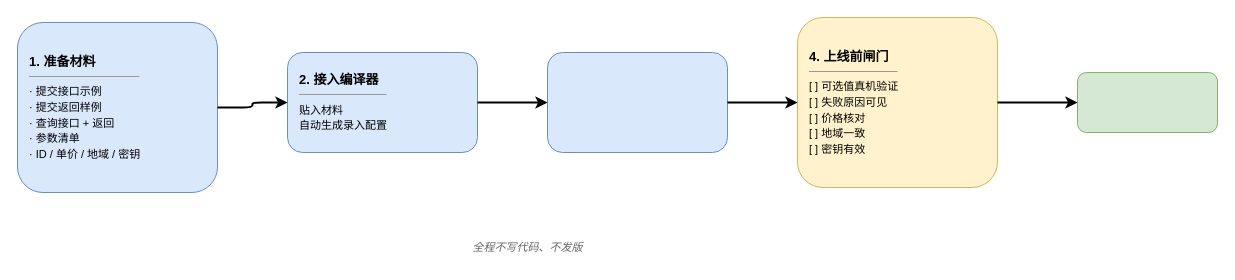
Image size: 1235x280. Some labels were removed from this diagram. The centre of each missing label's shape, as x and y in pixels:
3. 核对配置 参数可选值 价格 / 地域 / 密钥: [637,102]
模型上线: [1147,102]
